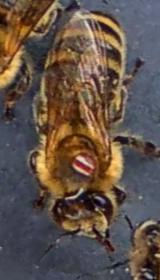varroa_mite: (68, 147, 99, 179)
